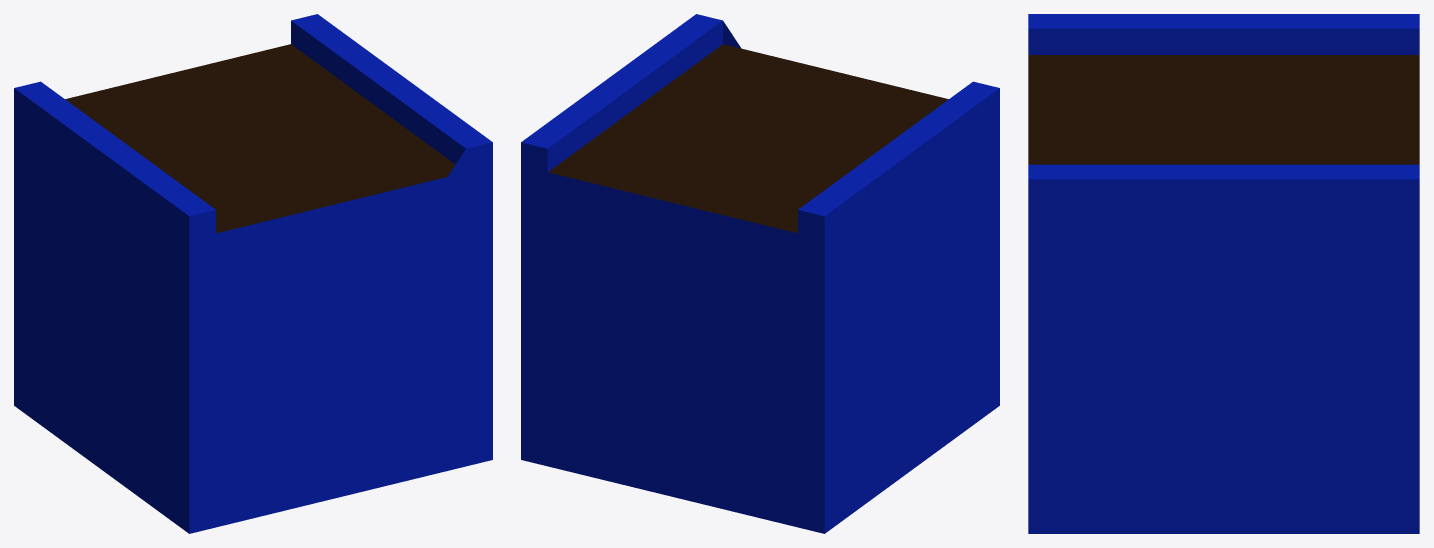
Rendered from straight.fbx.
3 renders of one model, left to right at view 1: azimuth 30°, elevation 25°; view 2: azimuth 150°, elevation 25°; view 3: azimuth 270°, elevation 25°, orthographic. The views are drawn at different scales.
Parts seen in each view (by area): view 1: Cube.001; view 2: Cube.001; view 3: Cube.001.
Part boxes in pixels (<box>): Cube.001: <box>14,14,492,533</box>; Cube.001: <box>521,14,999,533</box>; Cube.001: <box>1028,14,1419,533</box>.
Bounding box in the file's own units: 100 × 100 × 100.
